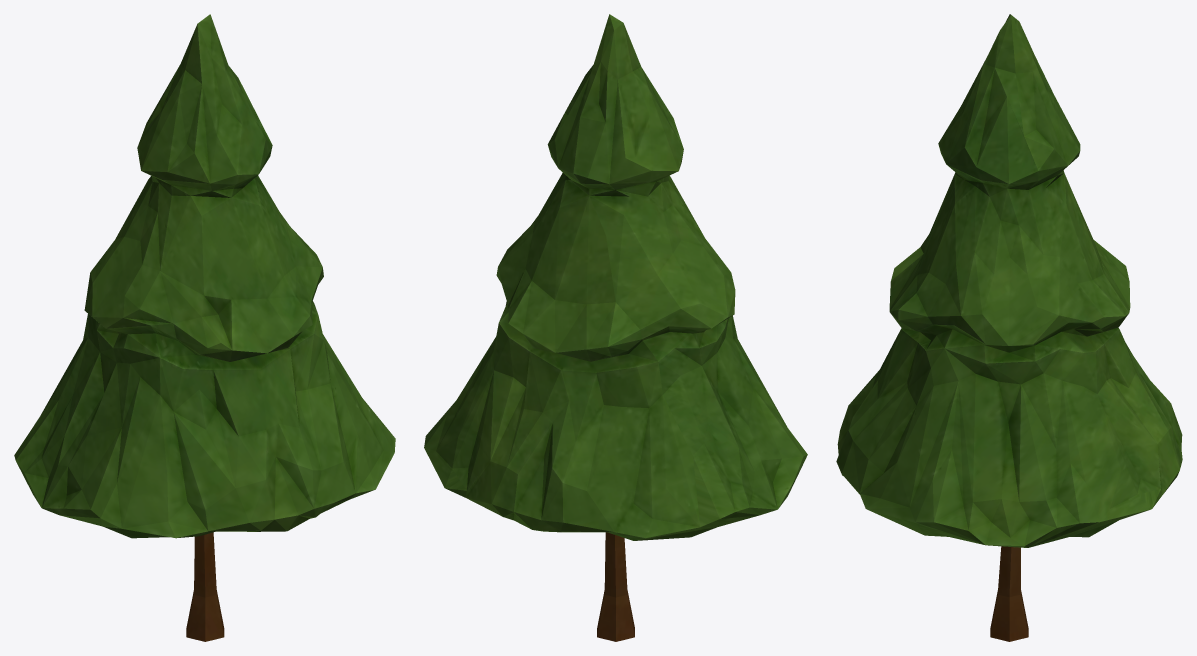
File: fCT73jIf5jN.glb
3 renders of one model, left to right at view 1: azimuth 30°, elevation 25°; view 2: azimuth 150°, elevation 25°; view 3: azimuth 270°, elevation 25°, orthographic.
Parts seen in each view (by area): view 1: PineTree_mesh; view 2: PineTree_mesh; view 3: PineTree_mesh.
Part boxes in pixels (x1=…): PineTree_mesh: x1=14, y1=14, x2=395, y2=641; PineTree_mesh: x1=424, y1=14, x2=807, y2=641; PineTree_mesh: x1=836, y1=14, x2=1182, y2=641.
Bounding box in the file's own units: 0.5518 × 1 × 0.5054.
Materials: 1 (1 with a texture image).
